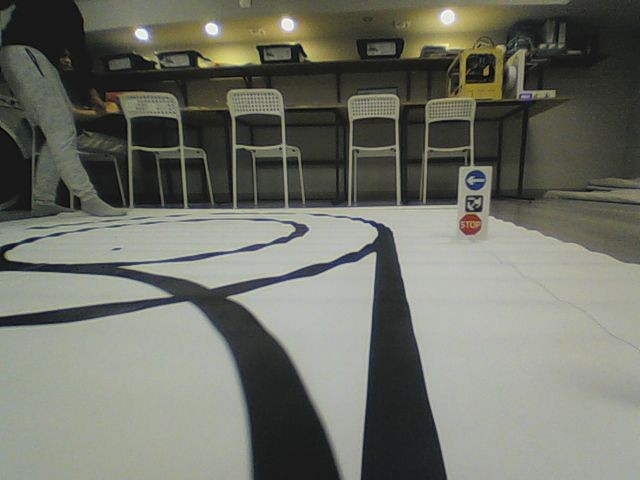Stop: (458, 212, 481, 235)
